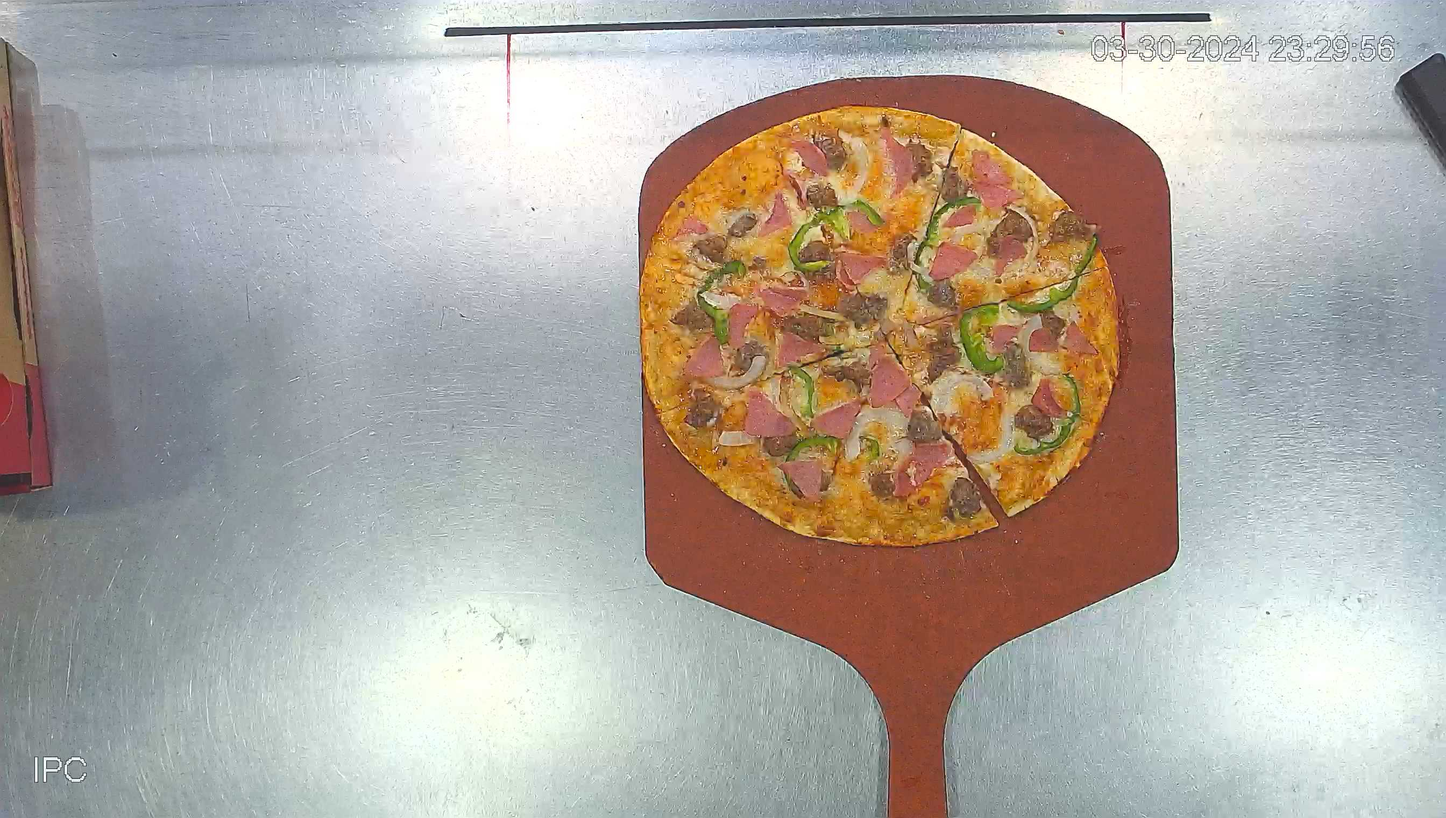hawaiian: (638, 103, 1124, 548)
